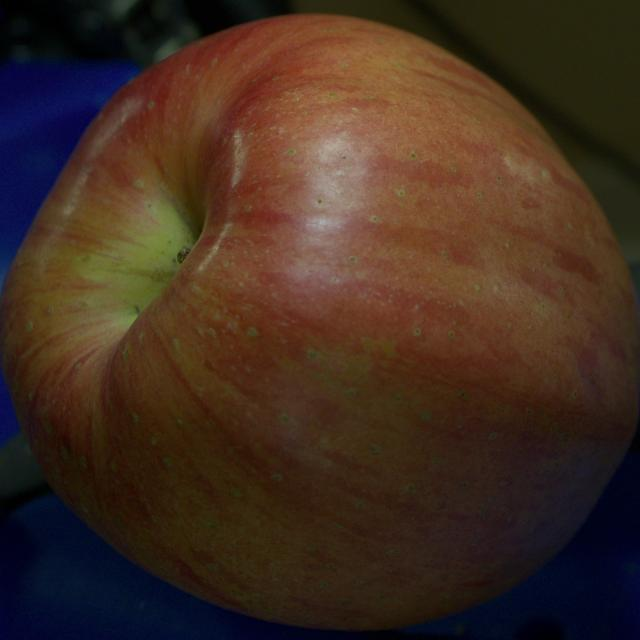apple: (0, 15, 639, 630)
